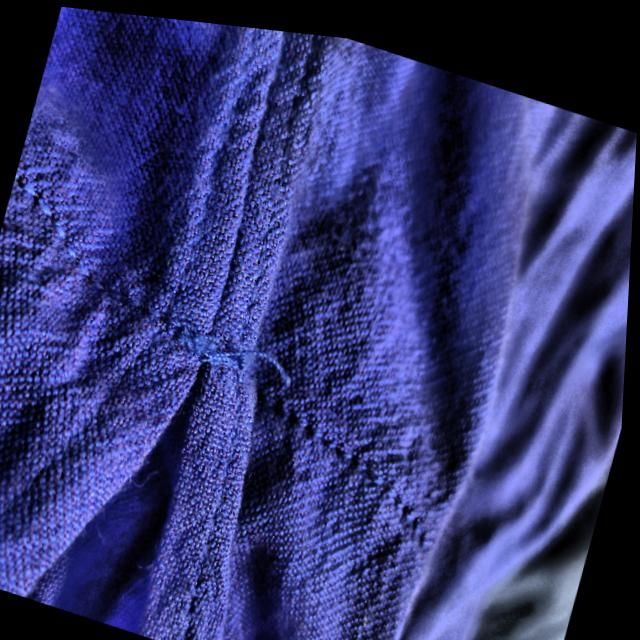Stitch: (112, 227, 373, 438)
